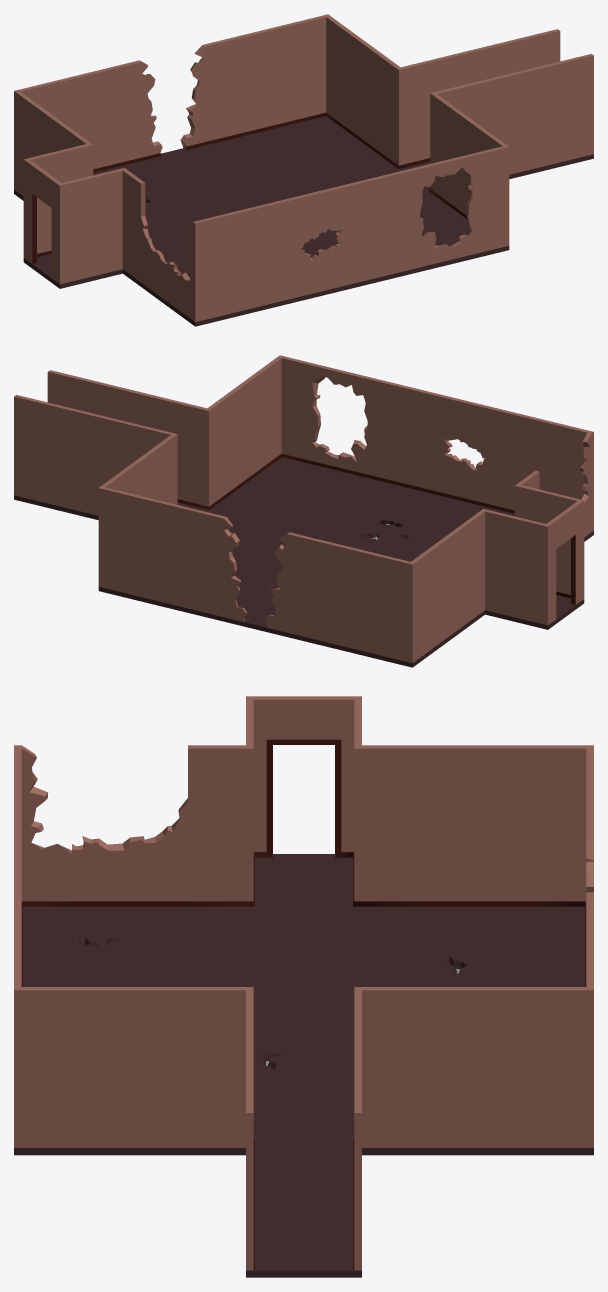
Rendered from Marchandage_Murs.fbx.
The picture shows the model from 3 angles, top to bottom: view 1: azimuth 30°, elevation 25°; view 2: azimuth 150°, elevation 25°; view 3: azimuth 270°, elevation 25°; orthographic projection. The views are drawn at different scales.
Parts seen in each view (by area): view 1: Marchandage_Murs; view 2: Marchandage_Murs; view 3: Marchandage_Murs.
Boxes of the visible parts, box(x1,y1,x2,y2) form: Marchandage_Murs: box(14, 14, 593, 326); Marchandage_Murs: box(14, 355, 593, 667); Marchandage_Murs: box(14, 696, 593, 1277).
Size of the model in its own units: 1700 by 326 by 1000.
